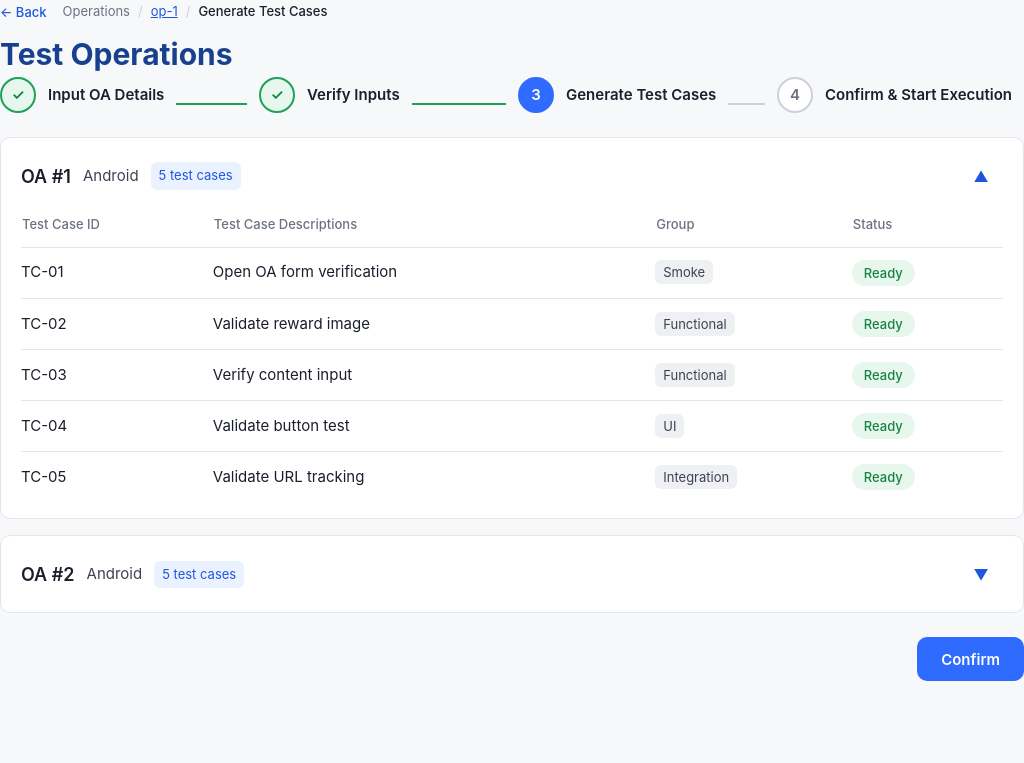
it: GenerateScreen › renders exactly five test cases per OA in fixed order
Click the button named "Toggle OA #2". click: click(981, 574)
box: top-left (959, 552), bottom-right (1003, 596)
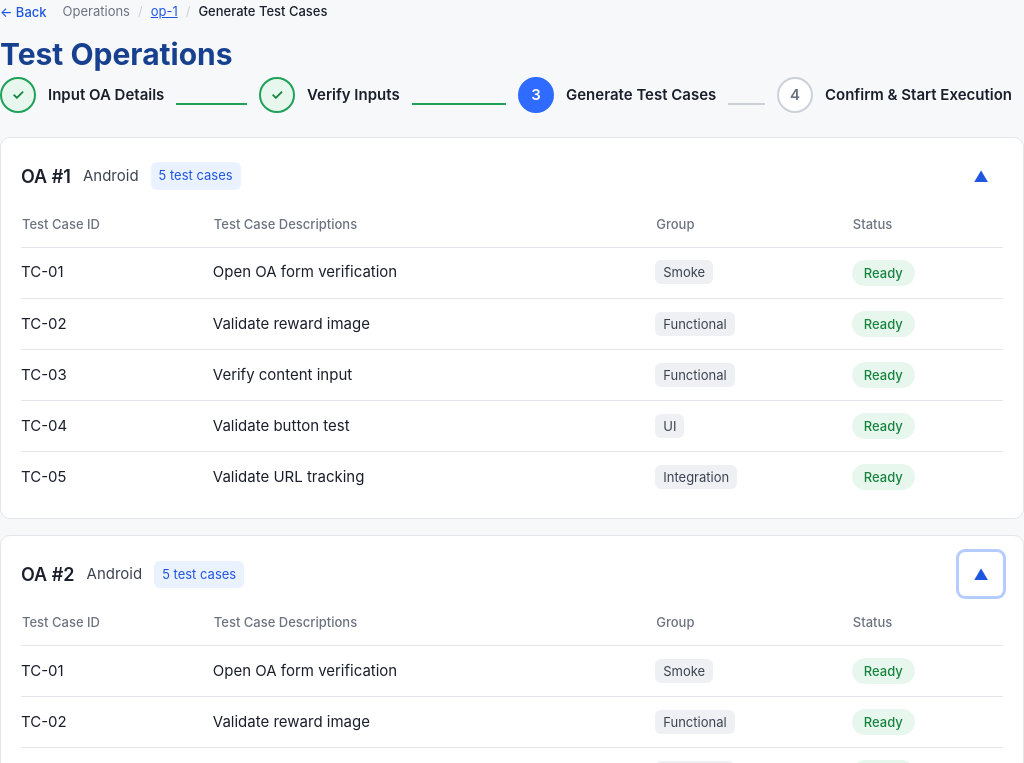
Check: the text "TC-01" is shown 10 times
Check: the number of buttons "Open OA form verification" is 2, box top-left (213, 261), bottom-right (397, 284); top-left (213, 660), bottom-right (397, 682)
